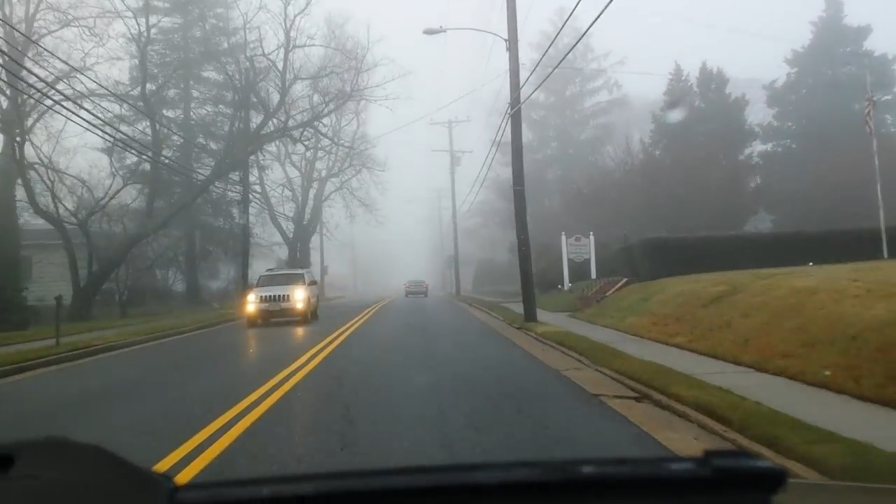car: (245, 264, 322, 325), (403, 277, 431, 298)
